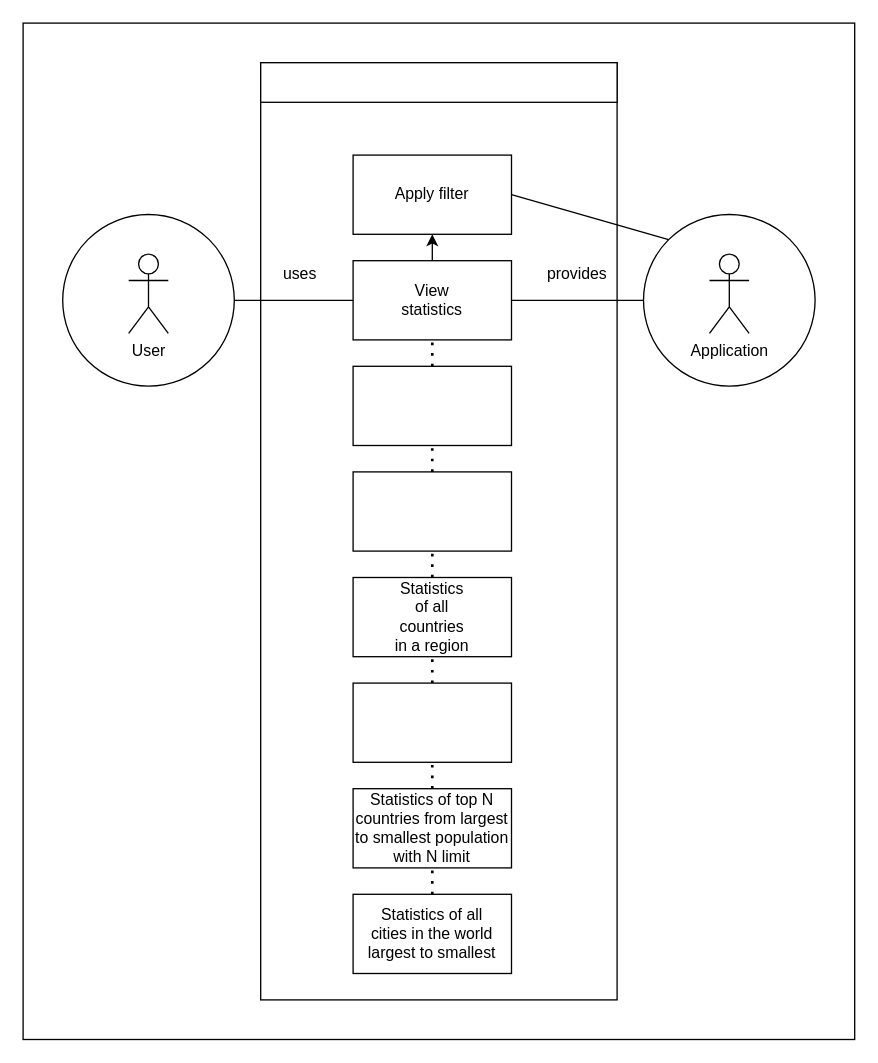
The diagram is 878 pixels wide and 1063 high, and some of its shapes have lost their labels. The shapes that lost their labels are listed below. From the top down, each one's centre as x and y in pixels, then its label:
point 438,81: Services
point 432,405: Countries statistics largest to smallest
point 432,511: Continent statistics largest to smallest
point 432,722: Statistics of all countries worldwide
